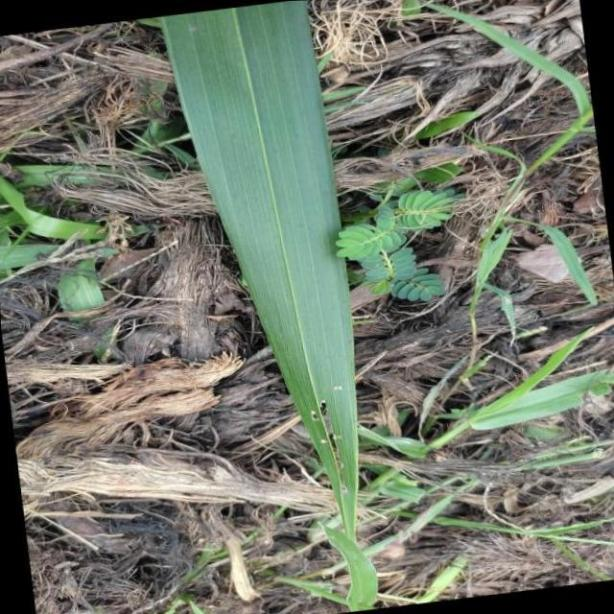Boron: (158, 0, 379, 614)
